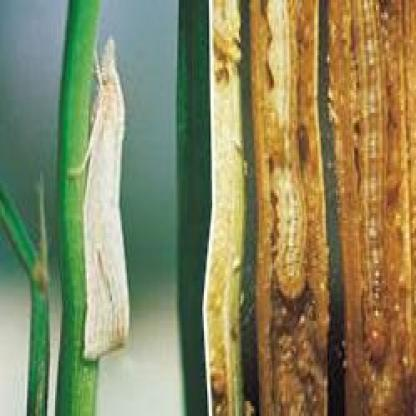stem-borer: (63, 31, 133, 366)
